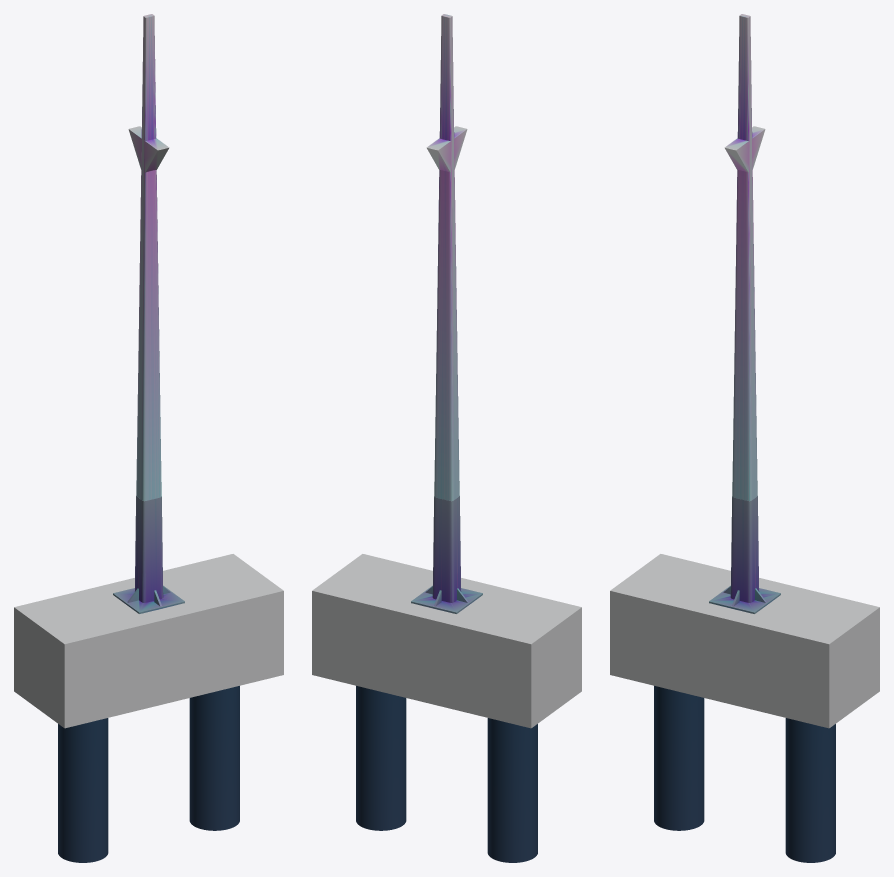
The picture shows the model from 3 angles, left to right: view 1: azimuth 30°, elevation 25°; view 2: azimuth 150°, elevation 25°; view 3: azimuth 330°, elevation 25°; orthographic projection.
Visible parts, largest first — view 1: block, shaft, post, post.001, foot; view 2: block, shaft, post, post.001, foot; view 3: block, shaft, post.001, post, foot.
Part boxes in pixels (x1=…): block: x1=14, y1=554, x2=283, y2=728; shaft: x1=128, y1=14, x2=169, y2=500; post: x1=58, y1=718, x2=108, y2=862; post.001: x1=189, y1=686, x2=239, y2=830; foot: x1=113, y1=496, x2=184, y2=613; block: x1=312, y1=554, x2=581, y2=728; shaft: x1=426, y1=14, x2=467, y2=500; post: x1=487, y1=718, x2=537, y2=862; post.001: x1=356, y1=686, x2=406, y2=830; foot: x1=411, y1=496, x2=482, y2=613; block: x1=610, y1=554, x2=879, y2=728; shaft: x1=724, y1=14, x2=765, y2=500; post.001: x1=785, y1=718, x2=835, y2=862; post: x1=654, y1=686, x2=704, y2=830; foot: x1=709, y1=496, x2=780, y2=613.
Bounding box in the file's own units: 1.4 × 5 × 0.5597.
